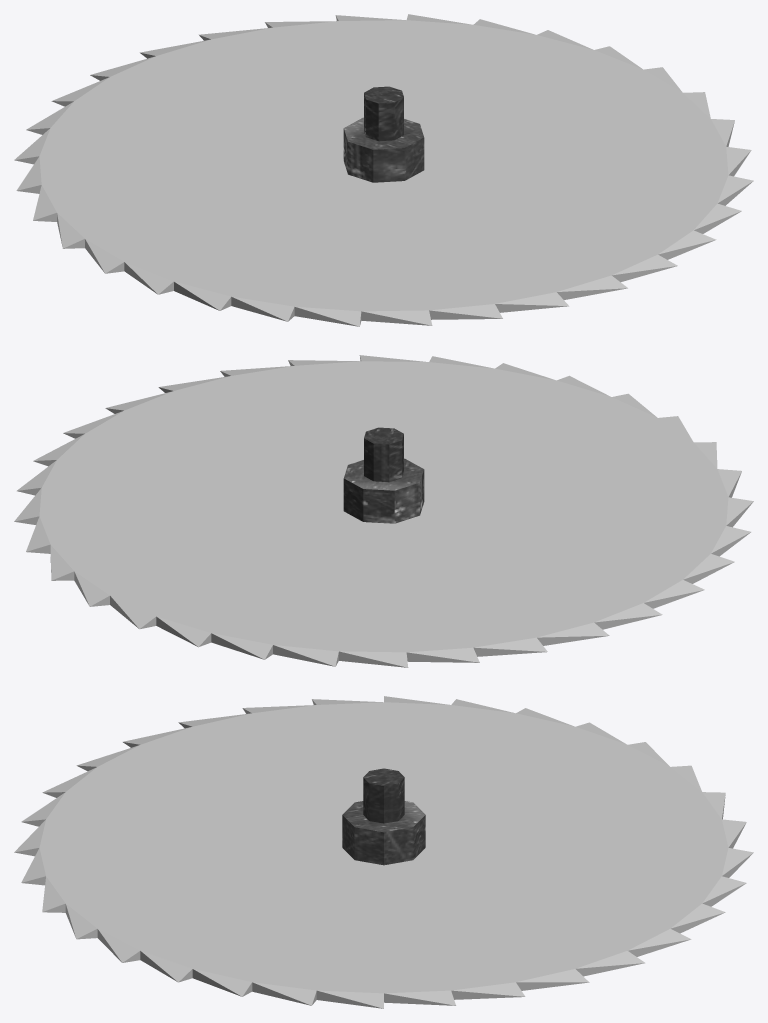
The model's file is saw_v2.fbx.
3 views of the same model, one above another, from view 1: azimuth 30°, elevation 25°; view 2: azimuth 150°, elevation 25°; view 3: azimuth 270°, elevation 25° (orthographic).
Parts seen in each view (by area): view 1: saw; view 2: saw; view 3: saw.
Part boxes in pixels (x1,y1,x2,y2): saw: [14, 14, 753, 326]; saw: [14, 355, 753, 667]; saw: [14, 696, 753, 1008].
Size of the model in its own units: 143 by 32 by 143.
